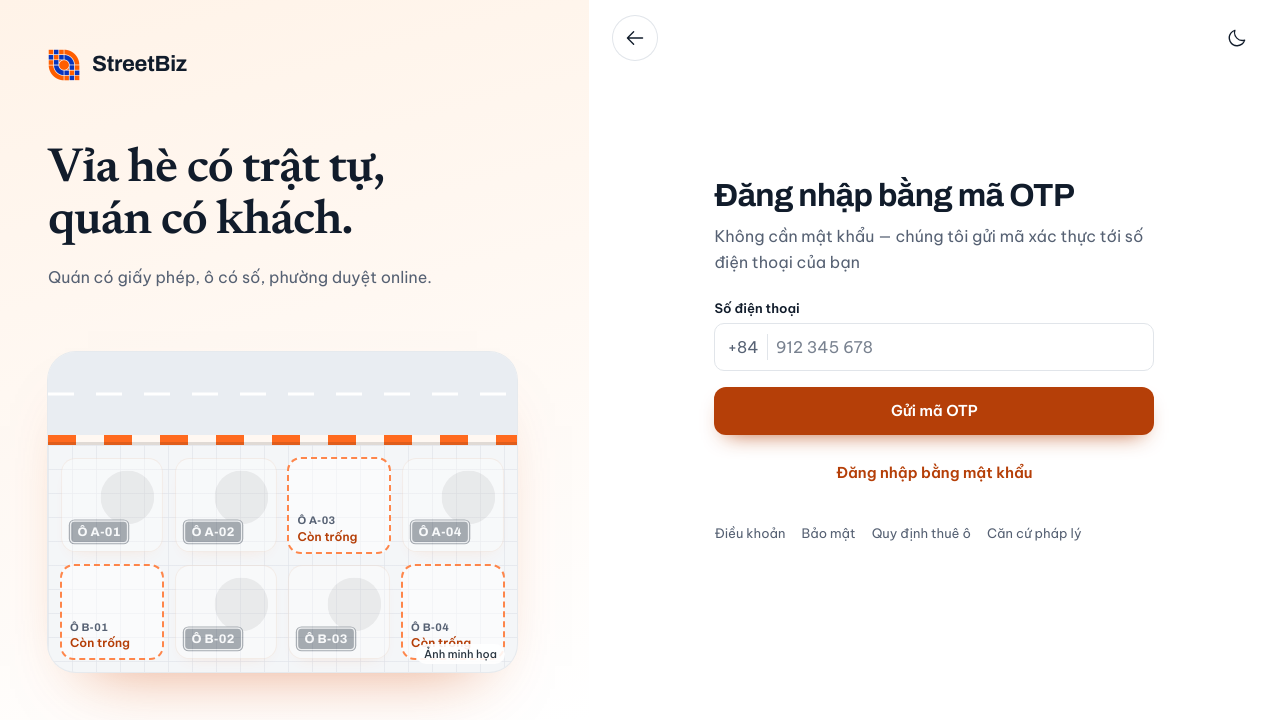
Test case: OtpSignInScreen (AUTH-03, passwordless) › refuses a malformed phone before sending anything
The image size is (1280, 720).
Type "12" into the field with placeholder "912 345 678".
click(958, 347); type("12")  # box [776,324,1141,370]
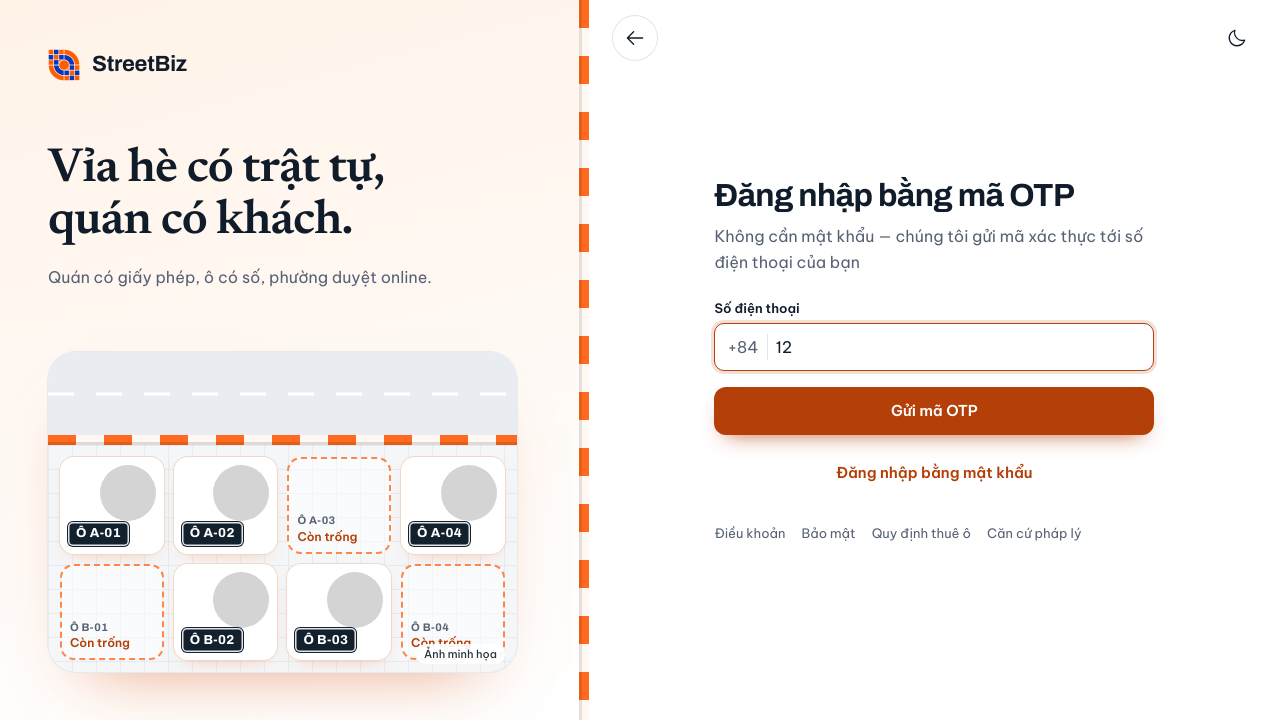
Click the button "Gửi mã OTP".
click(934, 411)  # box [714,387,1154,435]
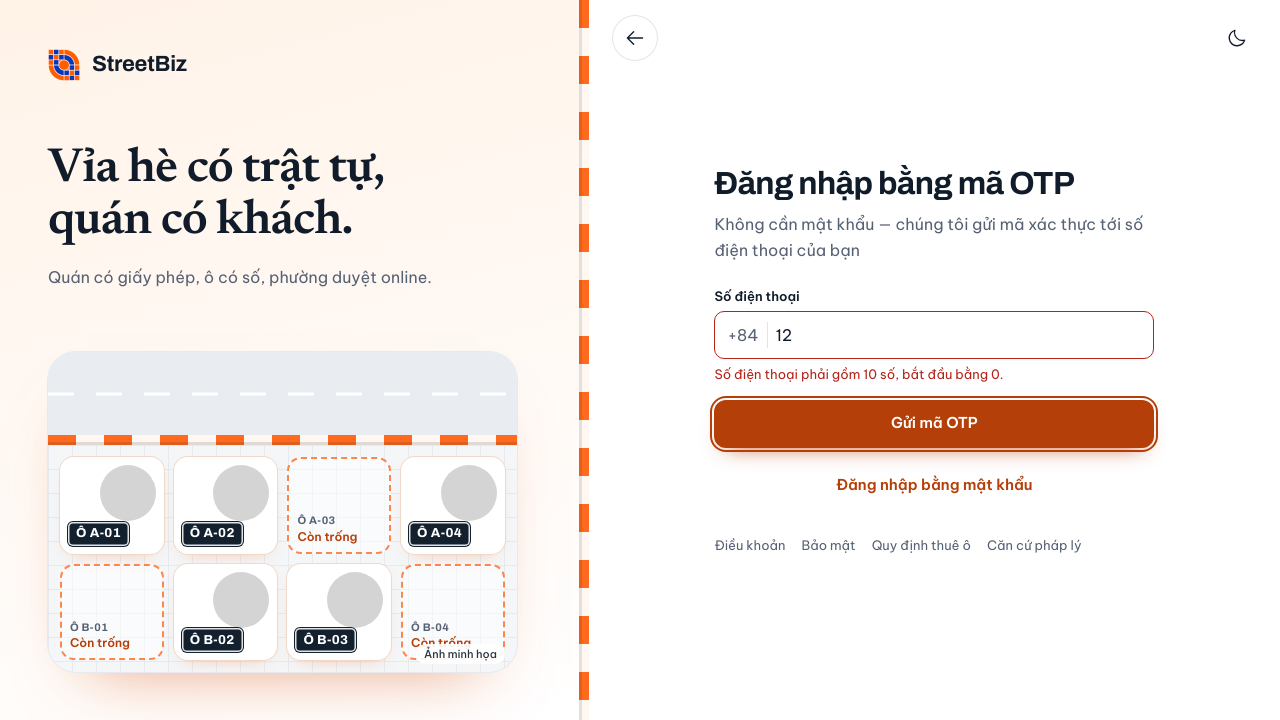
Check: the heading "Đăng nhập bằng mã OTP" is shown, box [714,166,1074,200]
Check: the text "Số điện thoại phải gồm 10 số, bắt đầu bằng 0." is shown, box [714,366,1004,382]
